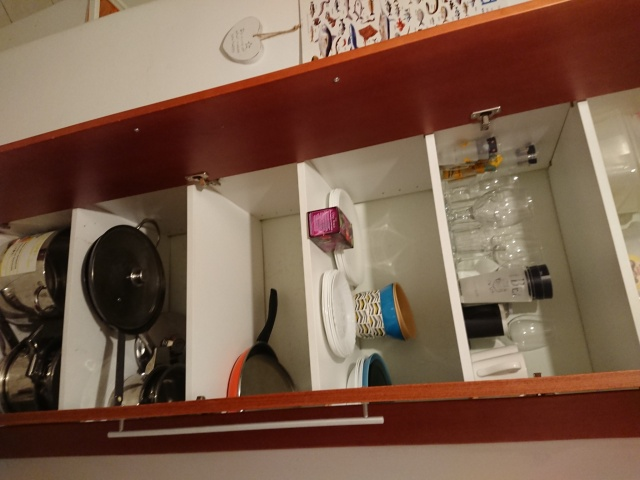Franck Black Currant Tea 60g: (305, 204, 356, 254)
